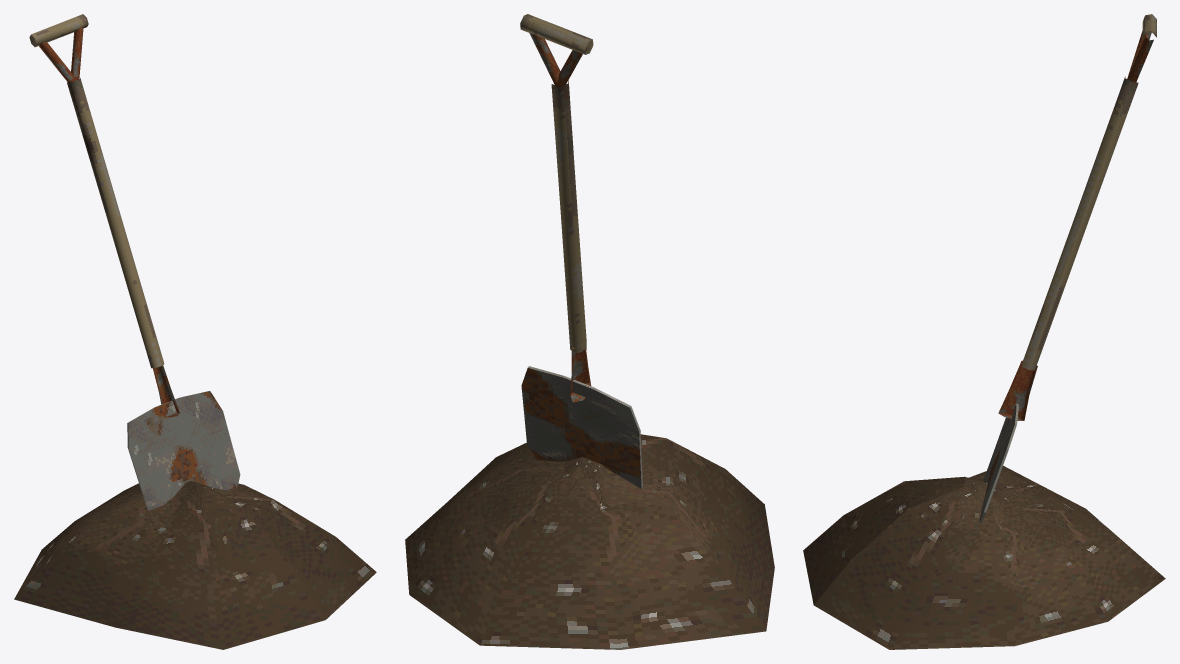
The model's file is shovel.glb.
3 renders of one model, left to right at view 1: azimuth 30°, elevation 25°; view 2: azimuth 150°, elevation 25°; view 3: azimuth 270°, elevation 25°, orthographic. The views are drawn at different scales.
Parts seen in each view (by area): view 1: shovel; view 2: shovel; view 3: shovel.
Part boxes in pixels (x1,y1,x2,y2): shovel: [14, 14, 376, 649]; shovel: [405, 14, 774, 649]; shovel: [803, 14, 1165, 649].
Bounding box in the file's own units: 0.7968 × 1.29 × 0.7966.
Materials: 1 (1 with a texture image).
